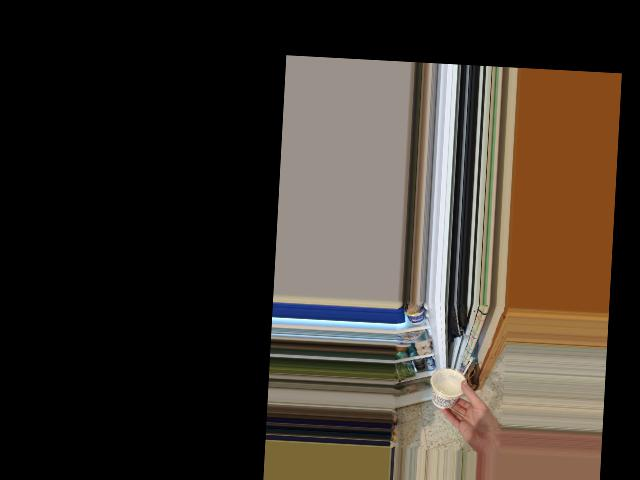cotage: (431, 369, 465, 410)
